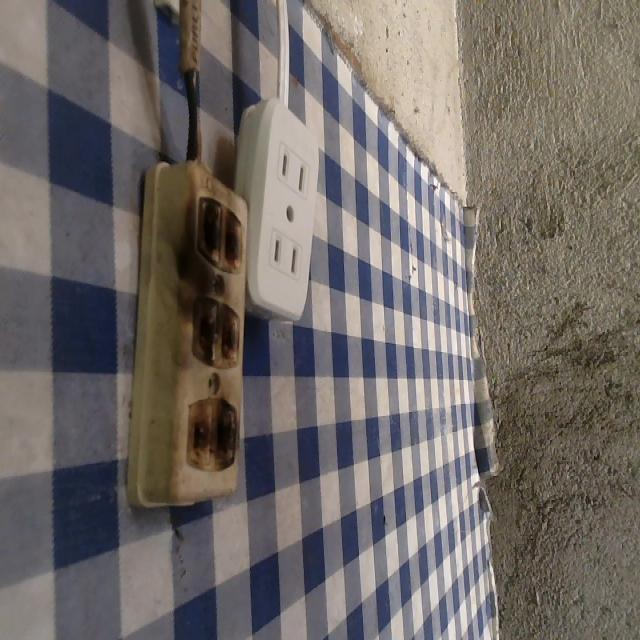-: (186, 291, 241, 369), (193, 192, 246, 271), (184, 393, 235, 472)
